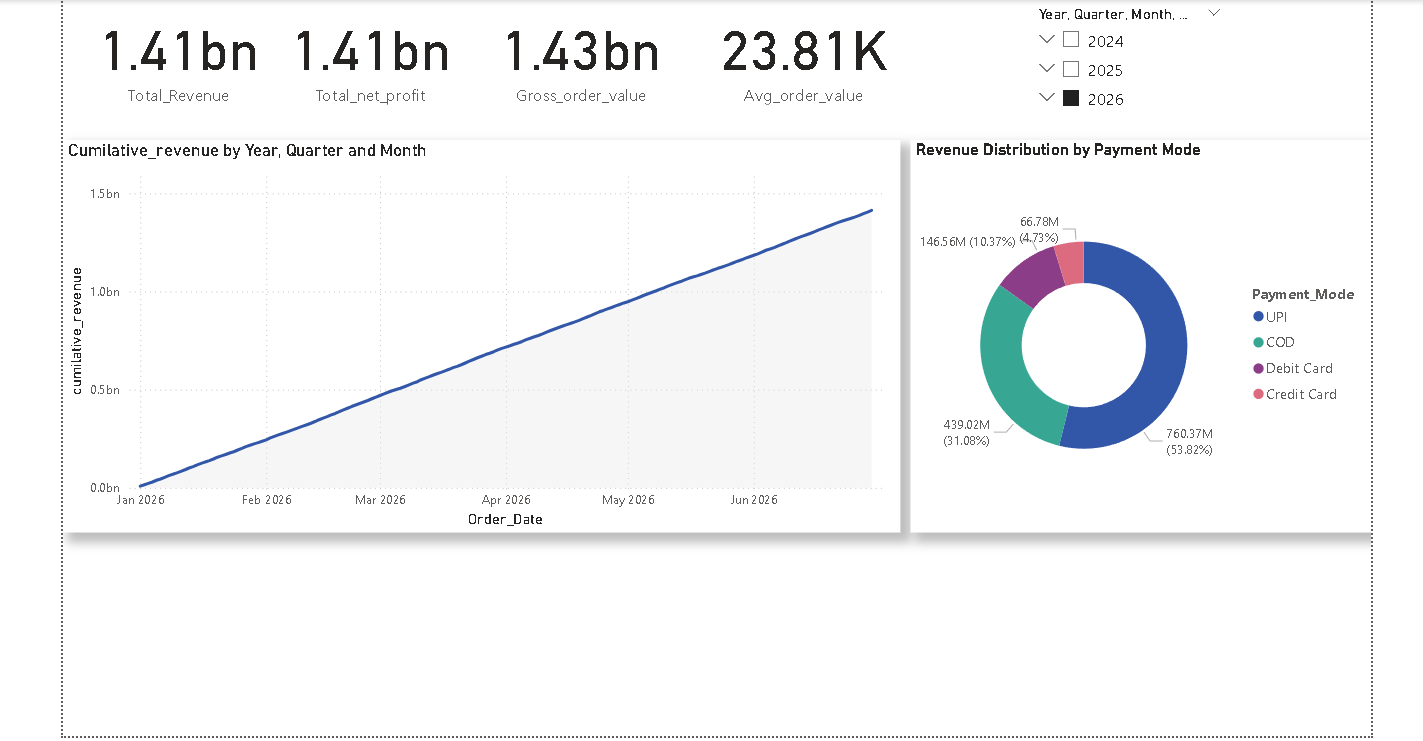

Layout of this report page (visuals, bound fields, positions):
{"tool":"powerbi","page":{"name":"Executive Summary","canvas":[1280,720],"ordinal":0},"visuals":[{"type":"card","fields":{"Values":["indian_commerce_db sales.Total_Revenue"]},"box":[9.6,0,207.2,107],"z":0},{"type":"card","fields":{"Values":["indian_commerce_db sales.Total_net_profit"]},"box":[194.9,0,214.1,107],"z":1000},{"type":"card","fields":{"Values":["indian_commerce_db sales.Gross_order_value"]},"box":[408.9,0,197.6,107],"z":2000},{"type":"card","fields":{"Values":["indian_commerce_db sales.Avg_order_value"]},"box":[621.6,0,207.2,107],"z":3000},{"type":"lineChart","title":"Cumilative_revenue by Year, Quarter and Month","fields":{"Y":["indian_commerce_db sales.cumilative_revenue"],"Category":["indian_commerce_db sales.Order_Date"]},"box":[0,137.2,819.2,384.2],"z":4000},{"type":"donutChart","title":"Revenue Distribution by Payment Mode","fields":{"Category":["indian_commerce_db sales.Payment_Mode"],"Y":["indian_commerce_db sales.Total_net_profit"]},"box":[828.8,137.2,451.5,384.2],"z":5000},{"type":"slicer","fields":{"Values":["indian_commerce_db sales.Order_Date.Variation.Date Hierarchy.Year","indian_commerce_db sales.Order_Date.Variation.Date Hierarchy.Quarter","indian_commerce_db sales.Order_Date.Variation.Date Hierarchy.Month","indian_commerce_db sales.Order_Date.Variation.Date Hierarchy.Day"]},"box":[942,0,204,128],"z":5001}]}

Visuals, with their boxes on the page's 1280x720 design canvas (x1, y1, x2, y2). These are canvas units, not pixel positions in the 1423x741 screenshot, which may show the page scaled, cropped or inside an application window:
card - indian_commerce_db sales.Total_Revenue: {"left": 10, "top": 0, "right": 217, "bottom": 107}
card - indian_commerce_db sales.Total_net_profit: {"left": 195, "top": 0, "right": 409, "bottom": 107}
card - indian_commerce_db sales.Gross_order_value: {"left": 409, "top": 0, "right": 606, "bottom": 107}
card - indian_commerce_db sales.Avg_order_value: {"left": 622, "top": 0, "right": 829, "bottom": 107}
"Cumilative_revenue by Year, Quarter and Month" lineChart: {"left": 0, "top": 137, "right": 819, "bottom": 521}
"Revenue Distribution by Payment Mode" donutChart: {"left": 829, "top": 137, "right": 1280, "bottom": 521}
slicer - indian_commerce_db sales.Order_Date.Variation.Date Hierarchy.Year x indian_commerce_db sales.Order_Date.Variation.Date Hierarchy.Quarter: {"left": 942, "top": 0, "right": 1146, "bottom": 128}
